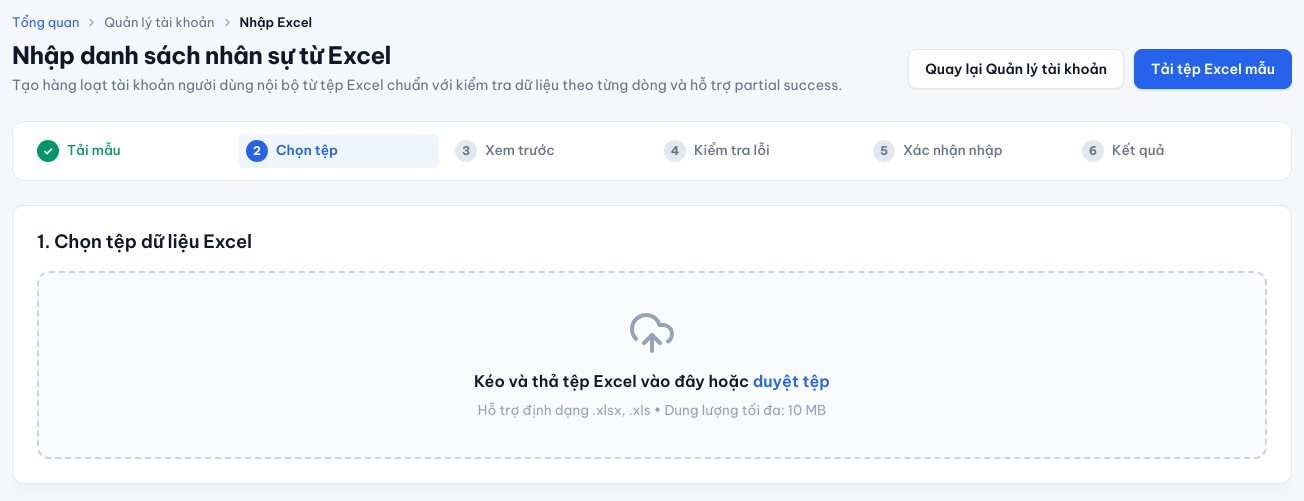
Test case: ExcelImportPage Frontend Component (S2-S1 / S2-01) › handles template download correctly
Click the button "Tải tệp Excel mẫu": coordinates (1213, 69) left=1134, top=49, right=1292, bottom=89
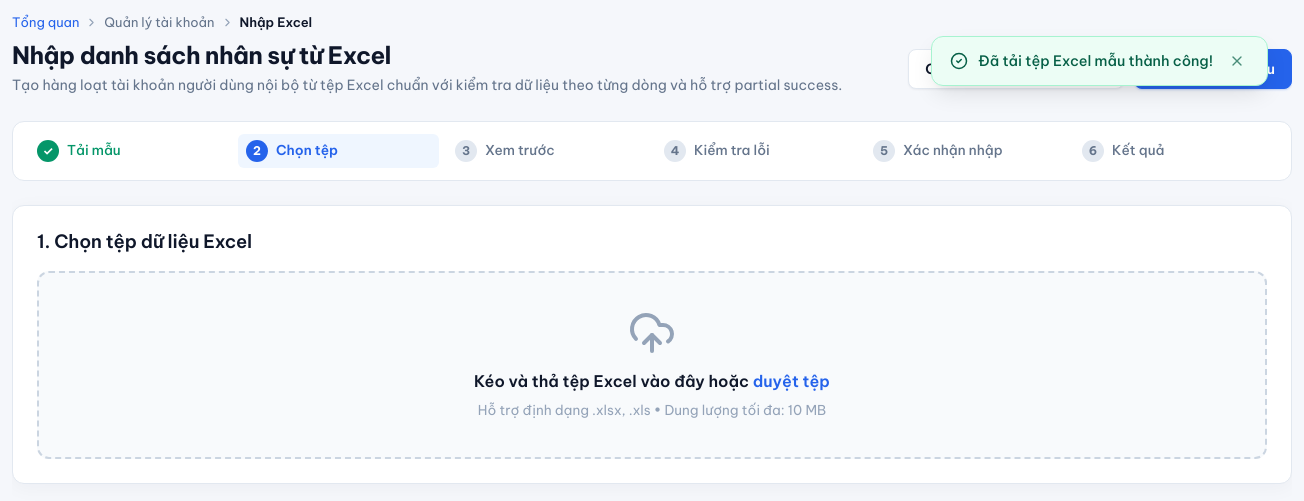
Now the text "Đã tải tệp Excel mẫu thành công!" is shown, box left=978, top=50, right=1213, bottom=72
